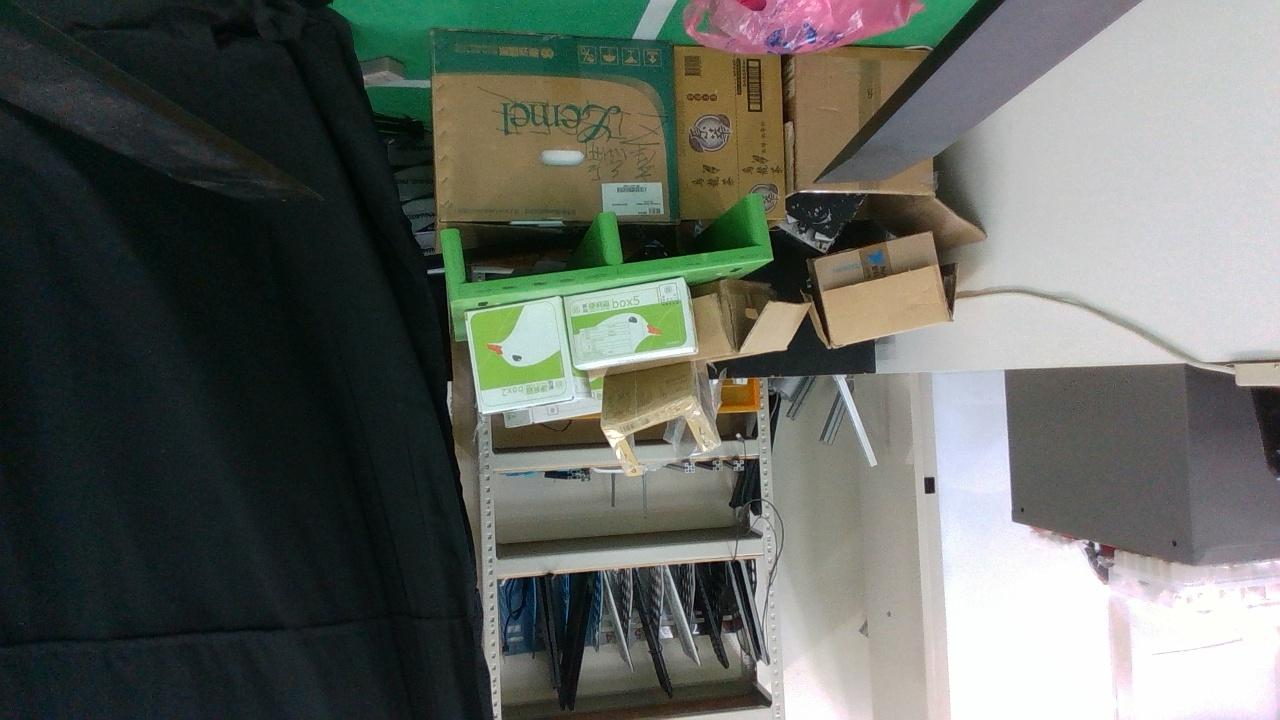Pallet: (438, 192, 774, 308)
